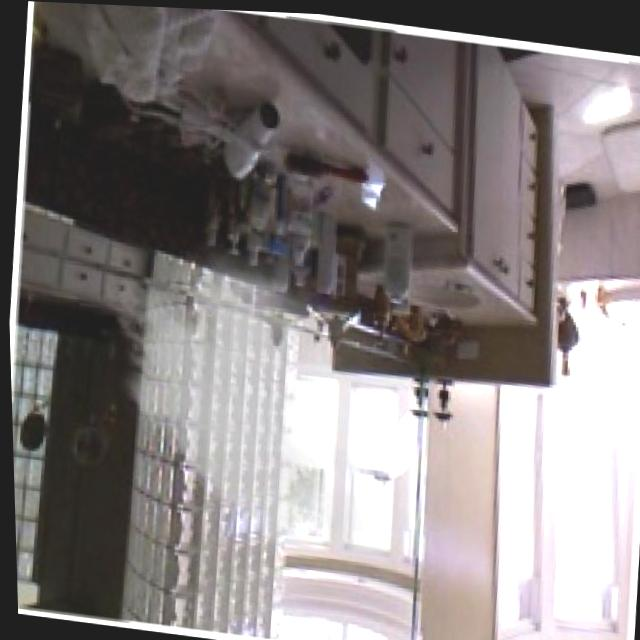Smoke: (82, 212, 499, 613)
